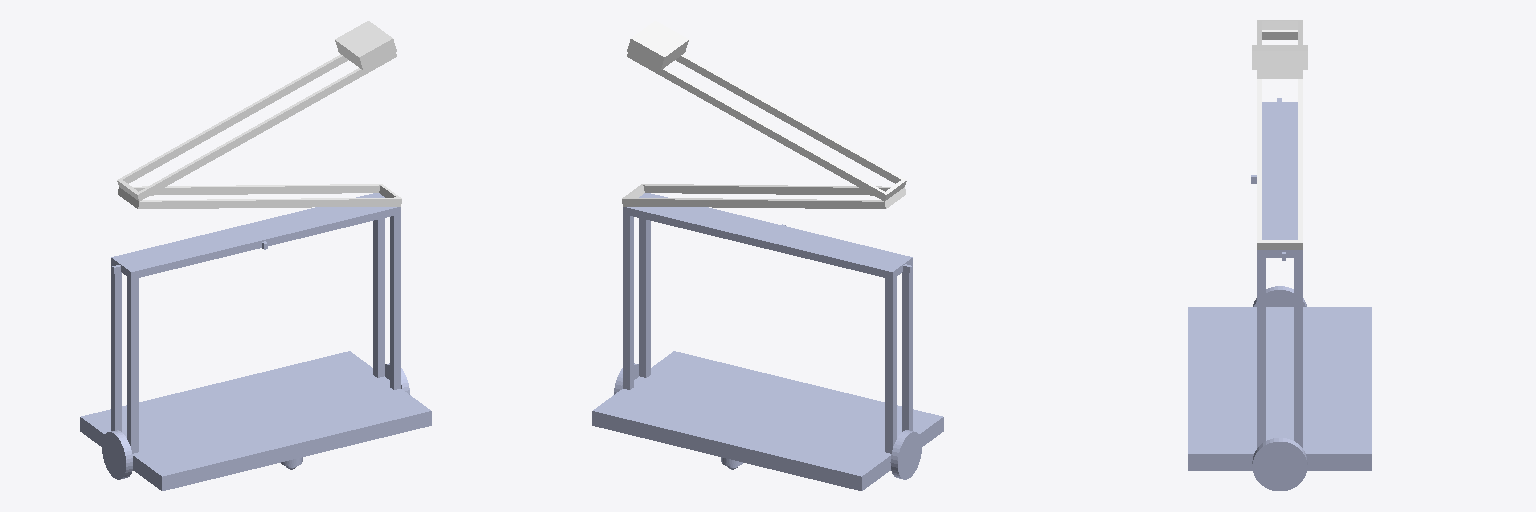
The robot description file, URDF, robot "maze_solver":
<?xml version="1.0" encoding="utf-8"?>
<!-- This URDF was automatically created by SolidWorks to URDF Exporter! Originally created by [author] ([email redacted]) 
     Commit Version: 1.6.0-4-g7f85cfe  Build Version: 1.6.7995.38578
     For more information, please see http://wiki.ros.org/sw_urdf_exporter -->
<robot
  name="maze_solver">
  <link
    name="base_link">
    <inertial>
      <origin
        xyz="5.31102203782299E-17 0.0429739467849225 1.00918561979163E-16"
        rpy="0 0 0" />
      <mass
        value="1.804" />
      <inertia
        ixx="0.0170711114421656"
        ixy="1.0598798124453E-17"
        ixz="1.169964258395E-17"
        iyy="0.0289395666666667"
        iyz="-4.47235019331738E-18"
        izz="0.0357214114421656" />
    </inertial>
    <visual>
      <origin
        xyz="0 0 0"
        rpy="0 0 0" />
      <geometry>
        <mesh
          filename="package://maze_solver/meshes/base_link.STL" />
      </geometry>
      <material
        name="">
        <color
          rgba="0.792156862745098 0.819607843137255 0.933333333333333 1" />
      </material>
    </visual>
    <collision>
      <origin
        xyz="0 0 0"
        rpy="0 0 0" />
      <geometry>
        <mesh
          filename="package://maze_solver/meshes/base_link.STL" />
      </geometry>
    </collision>
  </link>
  <link
    name="sensor_r">
    <inertial>
      <origin
        xyz="0.00167825063166785 -0.0025 0.00228459119938573"
        rpy="0 0 0" />
      <mass
        value="0.000400000000000001" />
      <inertia
        ixx="2.96666666666668E-09"
        ixy="-1.88193956686158E-25"
        ixz="-1.53800619907838E-25"
        iyy="5.46666666666668E-09"
        iyz="-6.89317177127523E-26"
        izz="4.16666666666667E-09" />
    </inertial>
    <visual>
      <origin
        xyz="0 0 0"
        rpy="0 0 0" />
      <geometry>
        <mesh
          filename="package://maze_solver/meshes/sensor_r.STL" />
      </geometry>
      <material
        name="">
        <color
          rgba="0.792156862745098 0.819607843137255 0.933333333333333 1" />
      </material>
    </visual>
    <collision>
      <origin
        xyz="0 0 0"
        rpy="0 0 0" />
      <geometry>
        <mesh
          filename="package://maze_solver/meshes/sensor_r.STL" />
      </geometry>
    </collision>
  </link>
  <joint
    name="sensor_r_joint"
    type="fixed">
    <origin
      xyz="-0.195 0.00167825063166793 0.263284591199386"
      rpy="3.14159265358979 0 -3.14" />
    <parent
      link="base_link" />
    <child
      link="sensor_r" />
    <axis
      xyz="0 0 0" />
  </joint>
  <link
    name="sensor_f">
    <inertial>
      <origin
        xyz="0.00167825063166785 0.0025 -0.00228459119938573"
        rpy="0 0 1.57" />
      <mass
        value="0.0004" />
      <inertia
        ixx="2.96666666666667E-09"
        ixy="-8.90222804304396E-27"
        ixz="-4.46391304228543E-25"
        iyy="5.46666666666667E-09"
        iyz="-2.61781266765201E-43"
        izz="4.16666666666667E-09" />
    </inertial>
    <visual>
      <origin
        xyz="0 0 0"
        rpy="0 0 0" />
      <geometry>
        <mesh
          filename="package://maze_solver/meshes/sensor_f.STL" />
      </geometry>
      <material
        name="">
        <color
          rgba="0.792156862745098 0.819607843137255 0.933333333333333 1" />
      </material>
    </visual>
    <collision>
      <origin
        xyz="0 0 0"
        rpy="0 0 0" />
      <geometry>
        <mesh
          filename="package://maze_solver/meshes/sensor_f.STL" />
      </geometry>
    </collision>
  </link>
  <joint
    name="sensor_f_joint"
    type="fixed">
    <origin
      xyz="-0.00161067072073706 -0.0249999999999999 0.256715408800614"
      rpy="3.14159265358979 0 -1.57" />
    <parent
      link="base_link" />
    <child
      link="sensor_f" />
    <axis
      xyz="0 0 0" />
  </joint>
  <link
    name="sensor_l">
    <inertial>
      <origin
        xyz="0.00167825063166785 -0.0025 0.00228459119938573"
        rpy="0 0 0" />
      <mass
        value="0.000400000000000001" />
      <inertia
        ixx="2.96666666666668E-09"
        ixy="-4.50365103748664E-25"
        ixz="6.06937399655524E-26"
        iyy="5.46666666666668E-09"
        iyz="-1.21220896784814E-25"
        izz="4.16666666666668E-09" />
    </inertial>
    <visual>
      <origin
        xyz="0 0 0"
        rpy="0 0 0" />
      <geometry>
        <mesh
          filename="package://maze_solver/meshes/sensor_l.STL" />
      </geometry>
      <material
        name="">
        <color
          rgba="0.792156862745098 0.819607843137255 0.933333333333333 1" />
      </material>
    </visual>
    <collision>
      <origin
        xyz="0 0 0"
        rpy="0 0 0" />
      <geometry>
        <mesh
          filename="package://maze_solver/meshes/sensor_l.STL" />
      </geometry>
    </collision>
  </link>
  <joint
    name="sensor_l_joint"
    type="fixed">
    <origin
      xyz="0.19 0.00167825063166787 0.261284591199386"
      rpy="3.14159265358979 0 0" />
    <parent
      link="base_link" />
    <child
      link="sensor_l" />
    <axis
      xyz="0 0 0" />
  </joint>
  <link
    name="wheel_l">
    <inertial>
      <origin
        xyz="2.60208521396521E-18 -1.73472347597681E-18 0.00500000000000003"
        rpy="0 0 0" />
      <mass
        value="0.0282743338823082" />
      <inertia
        ixx="6.59734457253857E-06"
        ixy="0"
        ixz="-2.11023447556403E-38"
        iyy="6.59734457253857E-06"
        iyz="-4.98934721673592E-39"
        izz="1.27234502470387E-05" />
    </inertial>
    <visual>
      <origin
        xyz="0 0 0"
        rpy="0 0 0" />
      <geometry>
        <mesh
          filename="package://maze_solver/meshes/wheel_l.STL" />
      </geometry>
      <material
        name="">
        <color
          rgba="0.792156862745098 0.819607843137255 0.933333333333333 1" />
      </material>
    </visual>
    <collision>
      <origin
        xyz="0 0 0"
        rpy="0 0 0" />
      <geometry>
        <mesh
          filename="package://maze_solver/meshes/wheel_l.STL" />
      </geometry>
    </collision>
  </link>
  <joint
    name="wheel_l_joint"
    type="continuous">
    <origin
      xyz="0.19 0 0.01"
      rpy="1.5707963267949 0.885460579278242 1.5707963267949" />
    <parent
      link="base_link" />
    <child
      link="wheel_l" />
    <axis
      xyz="0 0 1" />
    <limit
      lower="0"
      upper="0"
      effort="0"
      velocity="0" />
  </joint>
  <link
    name="wheel_r">
    <inertial>
      <origin
        xyz="-5.20417042793042E-18 -2.73218947466347E-17 0.005"
        rpy="0 0 0" />
      <mass
        value="0.0282743338823082" />
      <inertia
        ixx="6.59734457253857E-06"
        ixy="4.2351647362715E-22"
        ixz="-2.01218426660431E-38"
        iyy="6.59734457253857E-06"
        iyz="-1.22945901590415E-38"
        izz="1.27234502470387E-05" />
    </inertial>
    <visual>
      <origin
        xyz="0 0 0"
        rpy="0 0 0" />
      <geometry>
        <mesh
          filename="package://maze_solver/meshes/wheel_r.STL" />
      </geometry>
      <material
        name="">
        <color
          rgba="0.792156862745098 0.819607843137255 0.933333333333333 1" />
      </material>
    </visual>
    <collision>
      <origin
        xyz="0 0 0"
        rpy="0 0 0" />
      <geometry>
        <mesh
          filename="package://maze_solver/meshes/wheel_r.STL" />
      </geometry>
    </collision>
  </link>
  <joint
    name="wheel_r_joint"
    type="continuous">
    <origin
      xyz="-0.19 0 0.01"
      rpy="1.5707963267949 1.30809386854526 -1.5707963267949" />
    <parent
      link="base_link" />
    <child
      link="wheel_r" />
    <axis
      xyz="0 0 -1" />
    <limit
      lower="0"
      upper="0"
      effort="0"
      velocity="0" />
  </joint>
  <link
    name="caster_b">
    <inertial>
      <origin
        xyz="5.45392589743884E-17 -0.0069775457017438 -1.38777878078145E-17"
        rpy="0 0 0" />
      <mass
        value="0.00506672375389253" />
      <inertia
        ixx="2.64465523113008E-07"
        ixy="-2.79682351976512E-25"
        ixz="-8.00725373235536E-23"
        iyy="4.95058764494176E-07"
        iyz="-3.3989005198155E-25"
        izz="2.64465523113008E-07" />
    </inertial>
    <visual>
      <origin
        xyz="0 0 0"
        rpy="0 0 0" />
      <geometry>
        <mesh
          filename="package://maze_solver/meshes/caster_b.STL" />
      </geometry>
      <material
        name="">
        <color
          rgba="0.792156862745098 0.819607843137255 0.933333333333333 1" />
      </material>
    </visual>
    <collision>
      <origin
        xyz="0 0 0"
        rpy="0 0 0" />
      <geometry>
        <sphere radius="0.02"/>
      </geometry>
    </collision>
  </link>
  <joint
    name="caster_b_joint"
    type="continuous">
    <origin
      xyz="0 0.08625 0"
      rpy="1.5707963267949 0 0" />
    <parent
      link="base_link" />
    <child
      link="caster_b" />
  </joint>
  <link
    name="caster_f">
    <inertial>
      <origin
        xyz="4.16333634234434E-17 -0.0069775457017438 2.77555756156289E-17"
        rpy="0 0 0" />
      <mass
        value="0.00506672375389253" />
      <inertia
        ixx="2.64465523113008E-07"
        ixy="-3.17254822005274E-25"
        ixz="-3.97046694025453E-23"
        iyy="4.95058764494176E-07"
        iyz="-2.20140457848662E-24"
        izz="2.64465523113008E-07" />
    </inertial>
    <visual>
      <origin
        xyz="0 0 0"
        rpy="0 0 0" />
      <geometry>
        <mesh
          filename="package://maze_solver/meshes/caster_f.STL" />
      </geometry>
      <material
        name="">
        <color
          rgba="0.792156862745098 0.819607843137255 0.933333333333333 1" />
      </material>
    </visual>
    <collision>
      <origin
        xyz="0 0 0"
        rpy="0 0 0" />
      <geometry>
        <sphere radius="0.02"/>
      </geometry>
    </collision>
  </link>
  <joint
    name="caster_f_joint"
    type="continuous">
    <origin
      xyz="0 -0.08625 0"
      rpy="1.5707963267949 0 0.599335912665456" />
    <parent
      link="base_link" />
    <child
      link="caster_f" />
    
  </joint>
  <link
    name="arm_base">
    <inertial>
      <origin
        xyz="-0.19 0.00499999999999984 0.0249999999999999"
        rpy="0 0 0" />
      <mass
        value="0.0449400000000003" />
      <inertia
        ixx="2.1614E-05"
        ixy="-2.4818065354551E-19"
        ixz="-2.46307560799246E-19"
        iyy="0.000660992500000002"
        iyz="-1.71681721517741E-20"
        izz="0.000640127500000002" />
    </inertial>
    <visual>
      <origin
        xyz="0 0 0"
        rpy="0 0 0" />
      <geometry>
        <mesh
          filename="package://maze_solver/meshes/arm_base.STL" />
      </geometry>
      <material
        name="">
        <color
          rgba="1 1 1 0.32" />
      </material>
    </visual>
    <collision>
      <origin
        xyz="0 0 0"
        rpy="0 0 0" />
      <geometry>
        <mesh
          filename="package://maze_solver/meshes/arm_base.STL" />
      </geometry>
    </collision>
  </link>
  <joint
    name="arm_base_joint"
    type="revolute">
    <origin
      xyz="0.189999999999998 0.0250000000000001 0.265000000000002"
      rpy="1.5707963267949 0.219374105739364 0" />
    <parent
      link="base_link" />
    <child
      link="arm_base" />
    <axis
      xyz="0 0 1" />
    <limit
      lower="-0.219374105739371"
      upper="0.21"
      effort="0"
      velocity="0" />
  </joint>
  <link
    name="arm_top">
    <inertial>
      <origin
        xyz="0.189999999999999 0.00499999999999967 0.0250000000000002"
        rpy="0 0 0" />
      <mass
        value="0.0449399999999996" />
      <inertia
        ixx="2.1614E-05"
        ixy="1.33661799076729E-18"
        ixz="7.28291543396973E-19"
        iyy="0.000660992499999993"
        iyz="-3.13769731425328E-20"
        izz="0.000640127499999993" />
    </inertial>
    <visual>
      <origin
        xyz="0 0 0"
        rpy="0 0 0" />
      <geometry>
        <mesh
          filename="package://maze_solver/meshes/arm_top.STL" />
      </geometry>
      <material
        name="">
        <color
          rgba="1 1 1 0.32" />
      </material>
    </visual>
    <collision>
      <origin
        xyz="0 0 0"
        rpy="0 0 0" />
      <geometry>
        <mesh
          filename="package://maze_solver/meshes/arm_top.STL" />
      </geometry>
    </collision>
  </link>
  <joint
    name="arm_top_joint"
    type="revolute">
    <origin
      xyz="-0.379999999999998 0.00999999999999857 0"
      rpy="0 0 0.514515495694071" />
    <parent
      link="arm_base" />
    <child
      link="arm_top" />
    <axis
      xyz="0 0 1" />
    <limit
      lower="-0.514515495694073"
      upper="2.62707715789572"
      effort="0"
      velocity="0" />
  </joint>
  <link
    name="camera">
    <inertial>
      <origin
        xyz="0.0038889997713113 0.00979718551655867 -0.00334293059033772"
        rpy="0 0 0" />
      <mass
        value="0.0642" />
      <inertia
        ixx="1.5515E-05"
        ixy="1.69259430207196E-20"
        ixz="-4.53927511842652E-21"
        iyy="2.91544073556646E-05"
        iyz="-5.19518365443481E-06"
        izz="2.48805926443354E-05" />
    </inertial>
    <visual>
      <origin
        xyz="0 0 0"
        rpy="0 0 0" />
      <geometry>
        <mesh
          filename="package://maze_solver/meshes/camera.STL" />
      </geometry>
      <material
        name="">
        <color
          rgba="1 1 1 0.32" />
      </material>
    </visual>
    <collision>
      <origin
        xyz="0 0 0"
        rpy="0 0 0" />
      <geometry>
        <mesh
          filename="package://maze_solver/meshes/camera.STL" />
      </geometry>
    </collision>
  </link>
  <joint
    name="camera"
    type="fixed">
    <origin
      xyz="0.352324176953221 0.0100000000000041 0.0288889997713121"
      rpy="0.590282779909414 1.5707963267949 0" />
    <parent
      link="arm_top" />
    <child
      link="camera" />
    <axis
      xyz="0 0 0" />
  </joint>
  <gazebo>
  <plugin name="differential_drive_controller" filename="libgazebo_ros_diff_drive.so">
    <alwaysOn>true</alwaysOn>
    <legacyMode>false</legacyMode>
    <updateRate>40</updateRate>
    <leftJoint>wheel_l_joint</leftJoint>
    <rightJoint>wheel_r_joint</rightJoint>
    <wheelSeparation>0.38</wheelSeparation>
    <wheelDiameter>0.06</wheelDiameter>
    <torque>100</torque>
    <commandTopic>maze_solver/cmd_vel</commandTopic>
    <odometryTopic>odom</odometryTopic>
    <odometryFrame>odom</odometryFrame>
    <robotBaseFrame>base_footprint</robotBaseFrame>
    <wheelAcceleration>1.0</wheelAcceleration>
    <publishWheelJointState>true</publishWheelJointState>
  </plugin>
</gazebo>
<gazebo reference="sensor_f">        
   			<sensor type="ray" name="sensor_f">
		      <pose>0 0 0 0 0 0</pose>
		      <visualize>true</visualize>
		      <update_rate>40</update_rate>
		      <ray>
		         <scan>
		            <horizontal>
		               <samples>10</samples>
		               <resolution>1</resolution> 
		               <min_angle>-0.05</min_angle>
		               <max_angle>0.05</max_angle>
		            </horizontal>
		            <vertical>
		               <samples>10</samples>
		               <resolution>1</resolution> 
		               <min_angle>-0</min_angle>
		               <max_angle>0</max_angle> 
		            </vertical>
		         </scan>
		         <range>
		            <min>0.01</min>
		            <max>10</max>
		            <resolution>0.02</resolution>
		         </range>
		      </ray>
		      <plugin filename="libgazebo_ros_range.so" name="gazebo_ros_range">
		         <gaussianNoise>0.005</gaussianNoise>
		         <alwaysOn>true</alwaysOn>
		         <updateRate>40</updateRate>
		         <topicName>maze_solver/sensor_f</topicName>
		         <frameName>sensor_front</frameName>
		         <radiation>INFRARED</radiation>
		         <fov>0.2967</fov>
		      </plugin>
		   	</sensor>  
   		</gazebo>
 <gazebo reference="sensor_r">        
   			<sensor type="ray" name="sensor_r">
		      <pose>0 0 0 0 0 0</pose>
		      <visualize>true</visualize>
		      <update_rate>40</update_rate>
		      <ray>
		         <scan>
		            <horizontal>
		               <samples>10</samples>
		               <resolution>1</resolution> 
		               <min_angle>-0.02</min_angle>
		               <max_angle>0.02</max_angle>
		            </horizontal>
		            <vertical>
		               <samples>10</samples>
		               <resolution>1</resolution> 
		               <min_angle>-0</min_angle>
		               <max_angle>0</max_angle> 
		            </vertical>
		         </scan>
		         <range>
		            <min>0.01</min>
		            <max>10</max>
		            <resolution>0.02</resolution>
		         </range>
		      </ray>
		      <plugin filename="libgazebo_ros_range.so" name="gazebo_ros_range">
		         <gaussianNoise>0.005</gaussianNoise>
		         <alwaysOn>true</alwaysOn>
		         <updateRate>40</updateRate>
		         <topicName>maze_solver/sensor_r</topicName>
		         <frameName>sensor_right</frameName>
		         <radiation>INFRARED</radiation>
		         <fov>0.2967</fov>
		      </plugin>
		   	</sensor>  
   		</gazebo>
      <gazebo reference="sensor_l">        
   			<sensor type="ray" name="sensor_l">
		      <pose>0 0 0 0 0 0</pose>
		      <visualize>true</visualize>
		      <update_rate>40</update_rate>
		      <ray>
		         <scan>
		            <horizontal>
		               <samples>10</samples>
		               <resolution>1</resolution> 
		               <min_angle>-0.02</min_angle>
		               <max_angle>0.02</max_angle>
		            </horizontal>
		            <vertical>
		               <samples>10</samples>
		               <resolution>1</resolution> 
		               <min_angle>-0</min_angle>
		               <max_angle>0</max_angle> 
		            </vertical>
		         </scan>
		         <range>
		            <min>0.01</min>
		            <max>10</max>
		            <resolution>0.02</resolution>
		         </range>
		      </ray>
		      <plugin filename="libgazebo_ros_range.so" name="gazebo_ros_range">
		         <gaussianNoise>0.005</gaussianNoise>
		         <alwaysOn>true</alwaysOn>
		         <updateRate>40</updateRate>
		         <topicName>maze_solver/sensor_l</topicName>
		         <frameName>sensor_left</frameName>
		         <radiation>INFRARED</radiation>
		         <fov>0.2967</fov>
		      </plugin>
		   	</sensor>  
   		</gazebo>
       <gazebo reference="camera">
    <sensor type="camera" name="camera">
      <update_rate>40.0</update_rate>
      <camera name="head">
        <horizontal_fov>1.047</horizontal_fov>
        <image>
          <width>1000</width>
          <height>800</height>
          <format>R8G8B8</format>
        </image>
        <clip>
          <near>0.02</near>
          <far>300</far>
        </clip>
        <noise>
          <type>gaussian</type>
          <!-- Noise is sampled independently per pixel on each frame.
               That pixel's noise value is added to each of its color
               channels, which at that point lie in the range [0,1]. -->
          <mean>0.0</mean>
          <stddev>0.007</stddev>
        </noise>
      </camera>
      <plugin name="camera_controller" filename="libgazebo_ros_camera.so">
        <alwaysOn>true</alwaysOn> 
        <updateRate>0.0</updateRate>          <!--not sure-->
        <cameraName>maze_solver/camera</cameraName>
        <imageTopicName>image_topic</imageTopicName>
        <cameraInfoTopicName>camera_info</cameraInfoTopicName>
        <frameName>camera_feed</frameName>
        <hackBaseline>0.07</hackBaseline>
        <distortionK1>0.0</distortionK1>
        <distortionK2>0.0</distortionK2>
        <distortionK3>0.0</distortionK3>
        <distortionT1>0.0</distortionT1>
        <distortionT2>0.0</distortionT2>
      </plugin>
    </sensor>
  </gazebo>
  <gazebo reference="wheel_l">
    <mu1>0.9</mu1>
    <mu2>0.9</mu2>
  <minDepth>0.001</minDepth>
    <kp>100000000</kp>
    <kd>1</kd>
</gazebo>
<gazebo reference="wheel_r">
    <mu1>0.9</mu1>
    <mu2>0.9</mu2>
  <minDepth>0.001</minDepth>
    <kp>1000000000</kp>
    <kd>0.5</kd>
</gazebo>
</robot>

--- Facts derived from the render (not from the file) ---
Views: 3 orthographic renders of the robot side by side, from view 1: azimuth 30°, elevation 25°; view 2: azimuth 150°, elevation 25°; view 3: azimuth 270°, elevation 25°.
Robot: maze_solver — 11 links, 10 joints (2 revolute, 4 continuous, 4 fixed); root link base_link; default pose: every joint at zero.
Links seen in each view (by area): view 1: base_link, arm_top, arm_base, camera, wheel_r; view 2: base_link, arm_top, arm_base, camera, wheel_r; view 3: base_link, arm_base, wheel_l, camera, arm_top, wheel_r.
Link boxes in pixels (x1,y1,x2,y2): base_link: (80,193,431,490); arm_top: (117,53,396,201); arm_base: (118,184,401,208); camera: (335,21,396,70); wheel_r: (102,430,132,479); base_link: (592,193,943,490); arm_top: (627,53,906,201); arm_base: (622,184,905,208); camera: (627,21,688,70); wheel_r: (890,430,921,479); base_link: (1188,102,1371,470); arm_base: (1257,30,1302,249); wheel_l: (1252,438,1307,490); camera: (1252,45,1307,69); arm_top: (1257,20,1302,78); wheel_r: (1253,286,1306,306).
Size in the robot's own frame: 0.4017 by 0.2 by 0.5167 metres.
11 mesh visuals loaded from 11 distinct referenced files (11 binary STL).
